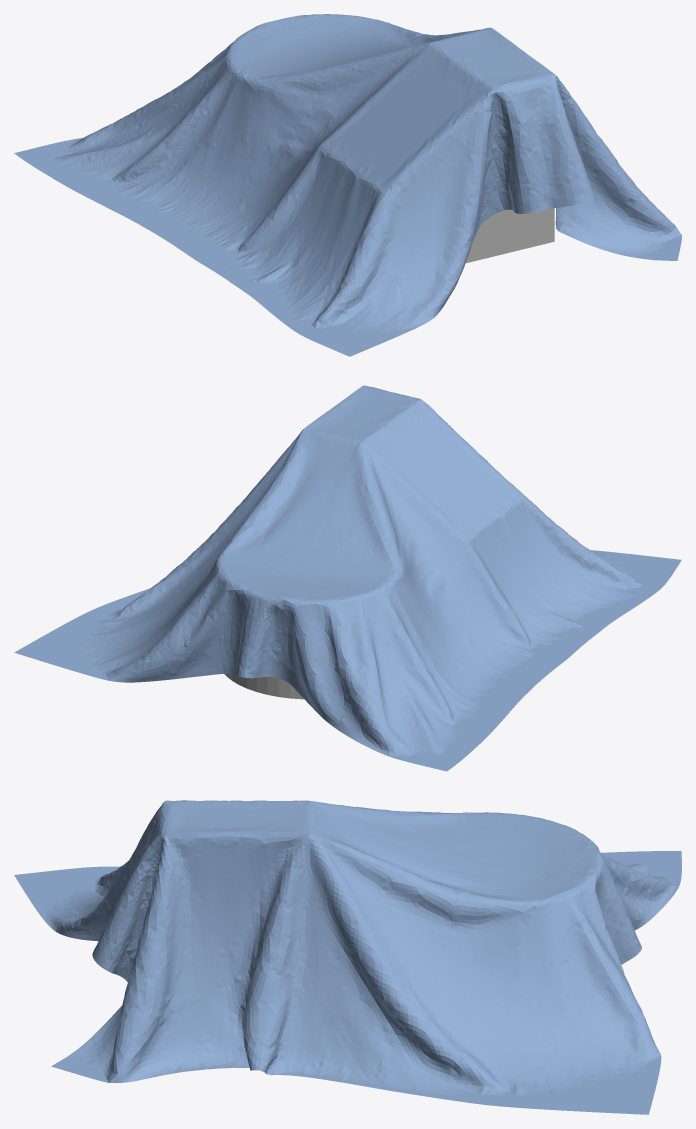
Rendered from level_3.glb.
3 renders of one model, top to bottom at view 1: azimuth 30°, elevation 25°; view 2: azimuth 150°, elevation 25°; view 3: azimuth 270°, elevation 25°, orthographic. The views are drawn at different scales.
Visible parts, largest first — view 1: world, object.obj; view 2: world, object.obj; view 3: world.
Part boxes in pixels (box(x1,y1,x2,y2)): world: box(14, 14, 681, 356); object.obj: box(465, 208, 554, 263); world: box(14, 385, 681, 771); object.obj: box(224, 673, 303, 699); world: box(14, 800, 681, 1114).
Bounding box in the file's own units: 0.5547 × 0.1893 × 0.5934.
